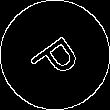P_NE: (24, 25, 86, 85)
